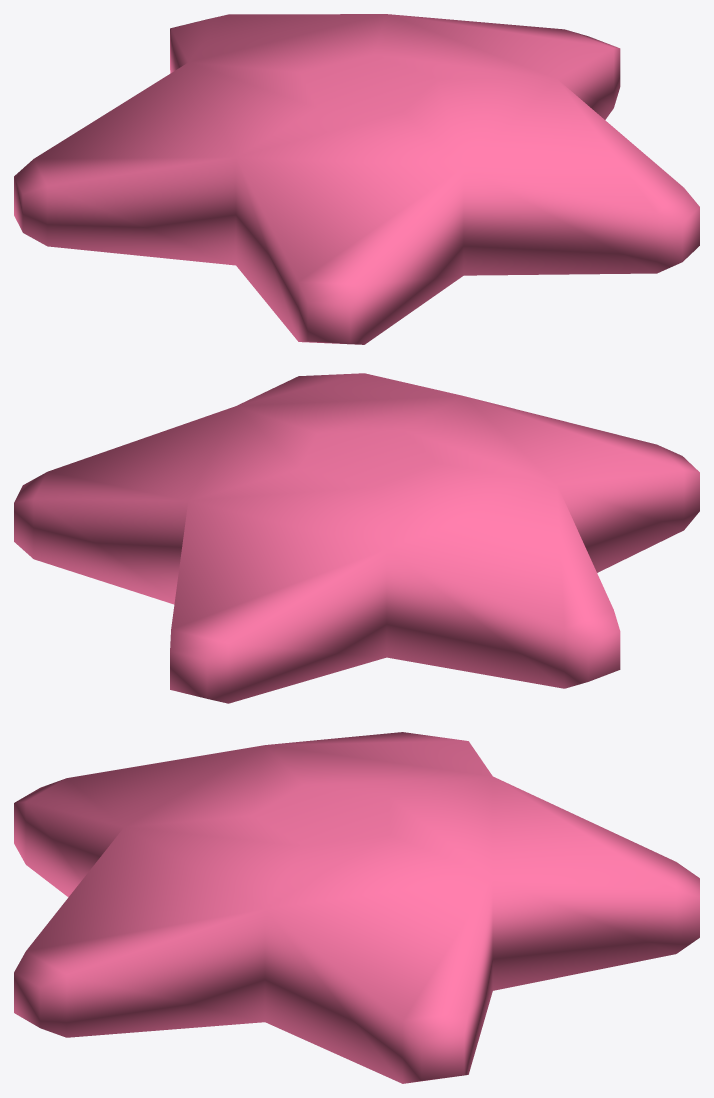
File: Coral_33.fbx
The picture shows the model from 3 angles, top to bottom: view 1: azimuth 30°, elevation 25°; view 2: azimuth 150°, elevation 25°; view 3: azimuth 270°, elevation 25°; orthographic projection. The views are drawn at different scales.
Visible parts, largest first — view 1: Coral_33; view 2: Coral_33; view 3: Coral_33.
Part boxes in pixels (<box>): Coral_33: <box>14,14,699,344</box>; Coral_33: <box>14,373,699,703</box>; Coral_33: <box>14,732,699,1083</box>.
Bounding box in the file's own units: 39.54 × 7.53 × 37.61.
